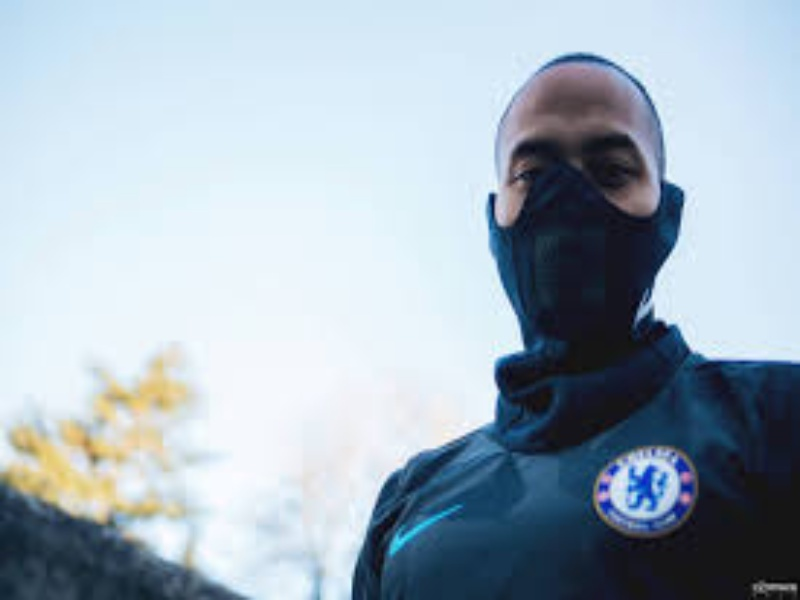ManaoArotava: (479, 51, 683, 374)
